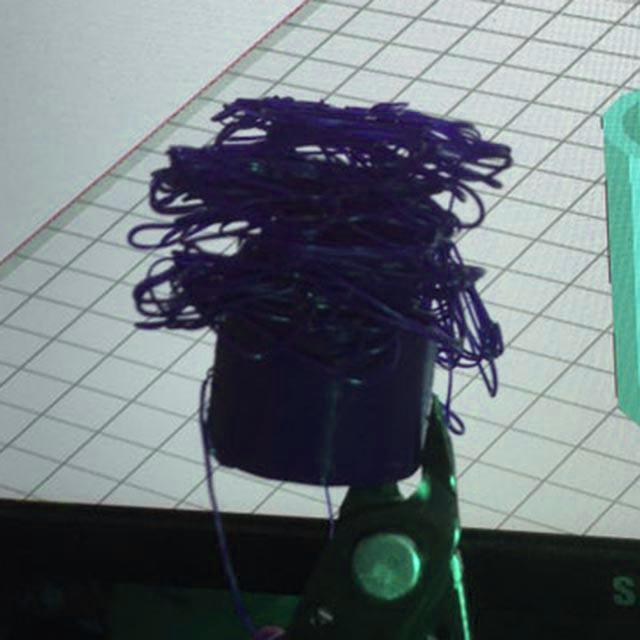spaghetti: (124, 90, 525, 441)
